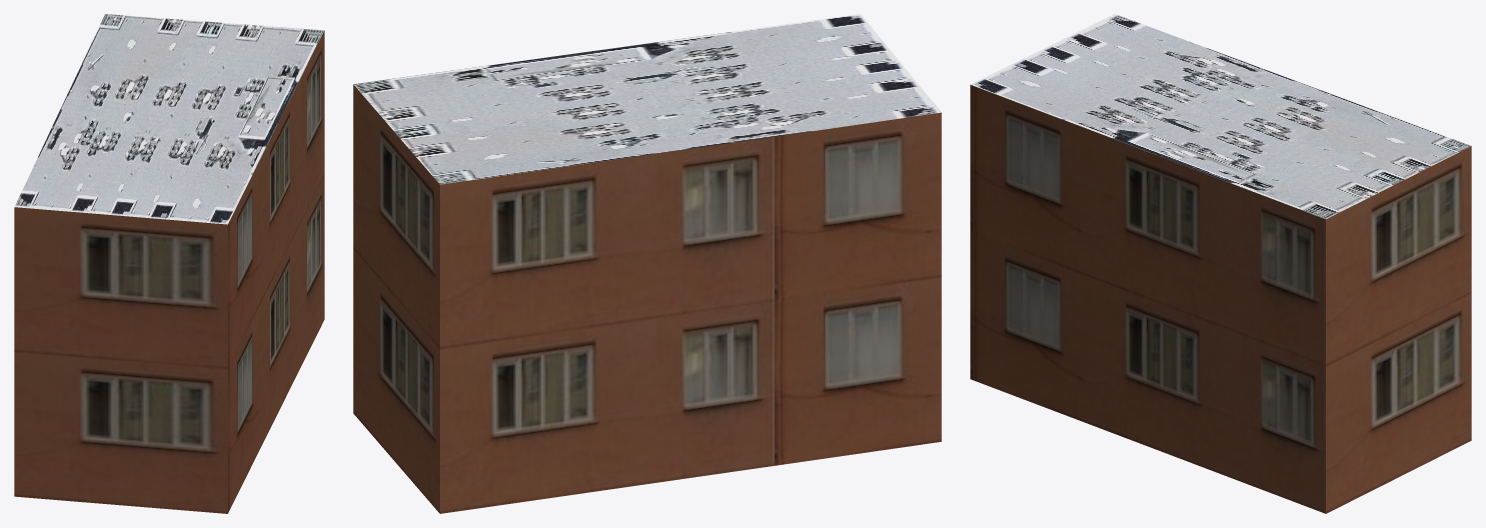
Rendered from ResTex__2349.fbx.
3 views of the same model, side by side, from view 1: azimuth 30°, elevation 25°; view 2: azimuth 150°, elevation 25°; view 3: azimuth 270°, elevation 25° (orthographic). The views are drawn at different scales.
Parts seen in each view (by area): view 1: CityEngineMaterial_20_m, CityEngineMaterial_4_m; view 2: CityEngineMaterial_20_m, CityEngineMaterial_4_m; view 3: CityEngineMaterial_20_m, CityEngineMaterial_4_m.
Part boxes in pixels (bbox=[...]): CityEngineMaterial_20_m: bbox=[14, 30, 324, 513]; CityEngineMaterial_4_m: bbox=[14, 14, 324, 224]; CityEngineMaterial_20_m: bbox=[353, 84, 941, 513]; CityEngineMaterial_4_m: bbox=[353, 14, 941, 184]; CityEngineMaterial_20_m: bbox=[970, 85, 1471, 513]; CityEngineMaterial_4_m: bbox=[970, 14, 1470, 219].
Size of the model in its own units: 8.97 by 6 by 9.26.
2 materials, 2 textured.
